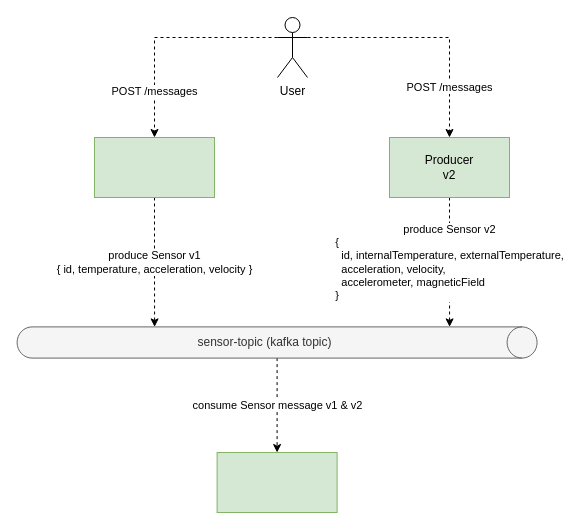
Image size: 582x530. Some labels were removed from this diagram. The centre of each missing label's shape, as x and y in pixels:
Consumer v1 & v2: point 276,482
Producer v1: point 154,167
